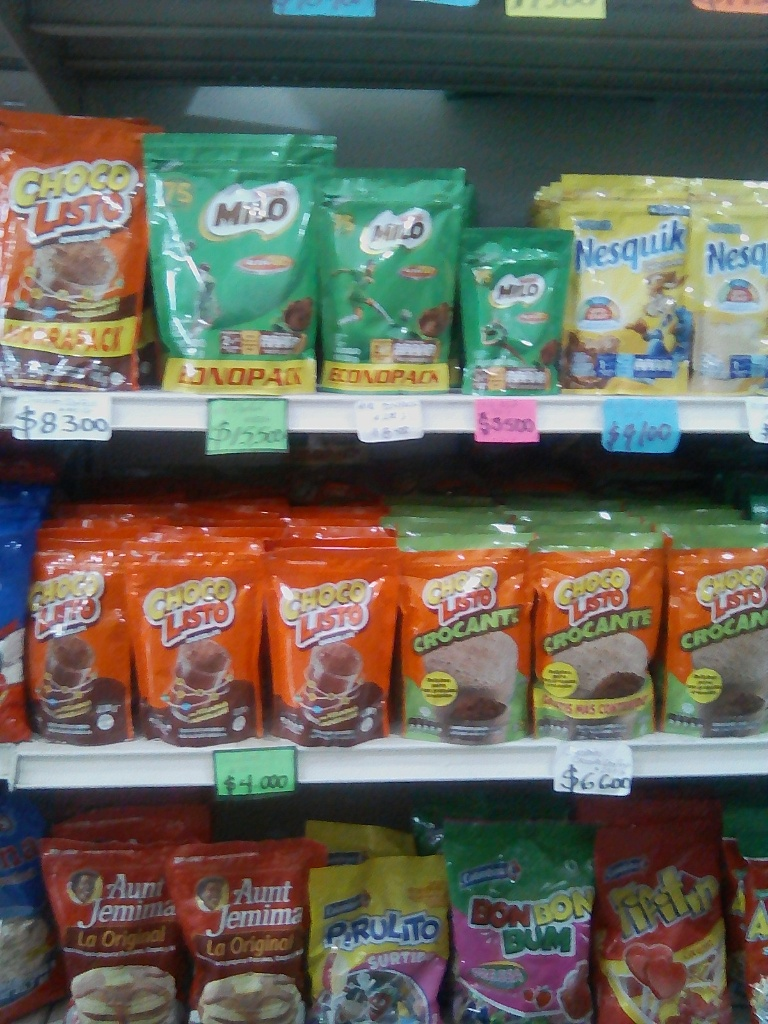COL0170102DYP25000: (406, 532, 534, 739)
COL0170103DYP20000: (24, 532, 139, 752)
COL0170103DYP40000: (0, 101, 152, 394)
COL0170203DYP10000: (462, 230, 577, 397)
COL0170203DYP25000: (323, 173, 464, 396)
COL0170203DYP50000: (153, 127, 323, 393)
COL0170303DYP20000: (560, 179, 692, 393)
COL0170306DYP20000: (693, 174, 765, 395)
